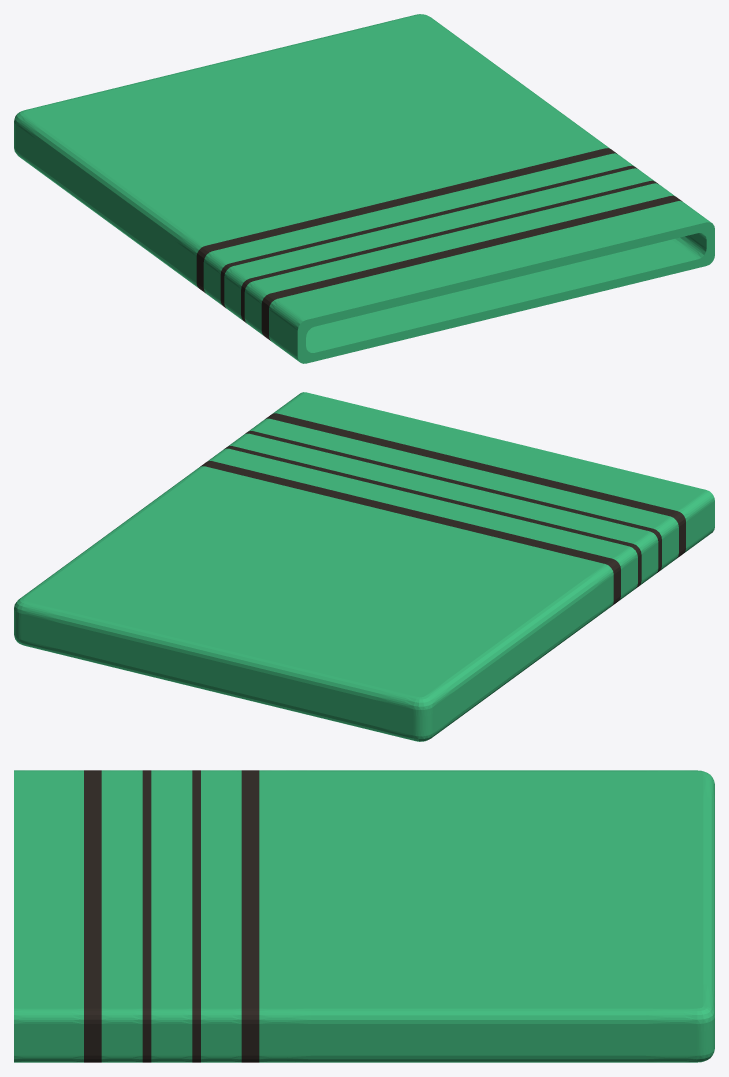
File: bathtowel.fbx
The picture shows the model from 3 angles, top to bottom: view 1: azimuth 30°, elevation 25°; view 2: azimuth 150°, elevation 25°; view 3: azimuth 270°, elevation 25°; orthographic projection. The views are drawn at different scales.
Visible parts, largest first — view 1: 개체_7, 개체_9, 개체_1, 개체_6, 개체_3, 개체_2, 개체_8, 개체_5, 개체_4; view 2: 개체_7, 개체_9, 개체_3, 개체_1, 개체_6, 개체_8, 개체_2, 개체_5, 개체_4; view 3: 개체_7, 개체_9, 개체_1, 개체_3, 개체_6, 개체_8, 개체_2, 개체_4, 개체_5.
Boxes of the visible parts, box(x1,y1,x2,y2) form: 개체_7: box(14, 14, 610, 287); 개체_9: box(269, 201, 714, 363); 개체_1: box(244, 183, 675, 335); 개체_6: box(203, 153, 634, 305); 개체_3: box(224, 168, 654, 320); 개체_2: box(261, 195, 682, 340); 개체_8: box(196, 148, 617, 293); 개체_5: box(220, 165, 638, 307); 개체_4: box(241, 180, 658, 323); 개체_7: box(14, 466, 613, 741); 개체_9: box(272, 392, 714, 552); 개체_3: box(227, 433, 658, 585); 개체_1: box(248, 418, 678, 570); 개체_6: box(207, 448, 637, 600); 개체_8: box(200, 461, 620, 606); 개체_2: box(265, 413, 685, 558); 개체_5: box(224, 446, 641, 588); 개체_4: box(244, 431, 661, 573); 개체_7: box(259, 770, 714, 1062); 개체_9: box(14, 770, 83, 1062); 개체_1: box(101, 770, 142, 1062); 개체_3: box(151, 770, 192, 1062); 개체_6: box(201, 770, 241, 1062); 개체_8: box(241, 770, 259, 1062); 개체_2: box(84, 770, 101, 1062); 개체_4: box(142, 770, 151, 1062); 개체_5: box(192, 770, 200, 1062).
Size of the model in its own units: 200 by 20 by 240.
